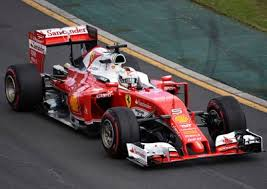f1_car: (2, 22, 267, 175)
